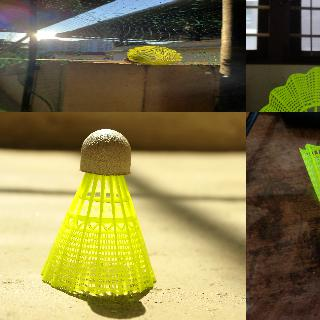shuttlecock: (41, 128, 155, 294), (297, 137, 319, 308), (253, 67, 319, 111), (123, 46, 182, 64)
